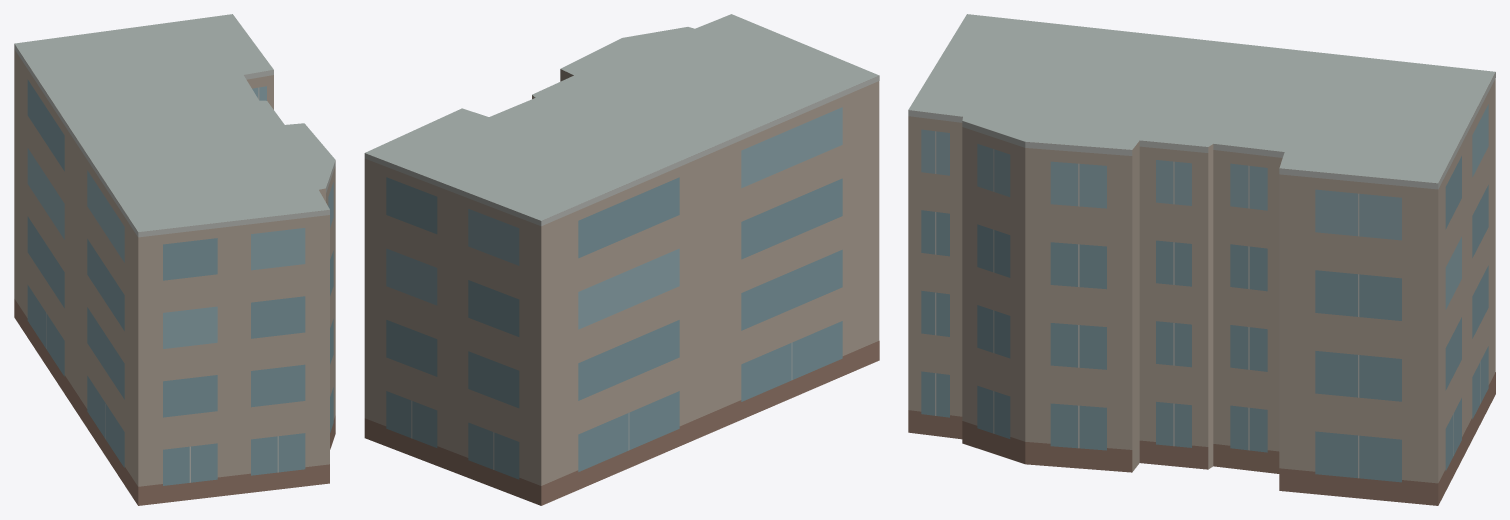
The model's file is survey-upis-32737350.glb.
3 renders of one model, left to right at view 1: azimuth 30°, elevation 25°; view 2: azimuth 150°, elevation 25°; view 3: azimuth 270°, elevation 25°, orthographic. The views are drawn at different scales.
Visible parts, largest first — view 1: survey-upis-32737350.tmp; view 2: survey-upis-32737350.tmp; view 3: survey-upis-32737350.tmp.
Boxes of the visible parts, box(x1,y1,x2,y2) form: survey-upis-32737350.tmp: box(14, 14, 335, 505); survey-upis-32737350.tmp: box(364, 14, 879, 505); survey-upis-32737350.tmp: box(908, 14, 1495, 505).
Bounding box in the file's own units: 14.42 × 12.8 × 21.14.
